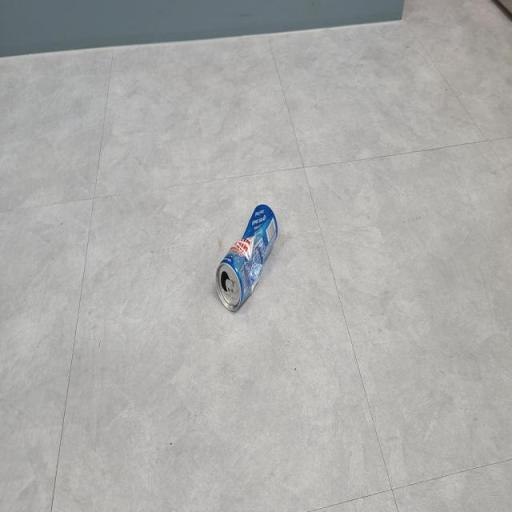metal: (202, 182, 296, 344)
